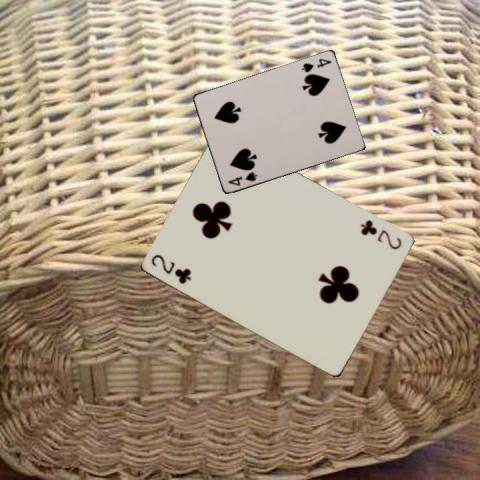2c: (358, 217, 404, 251), (148, 251, 193, 285)
4s: (225, 170, 258, 188), (299, 56, 332, 74)
